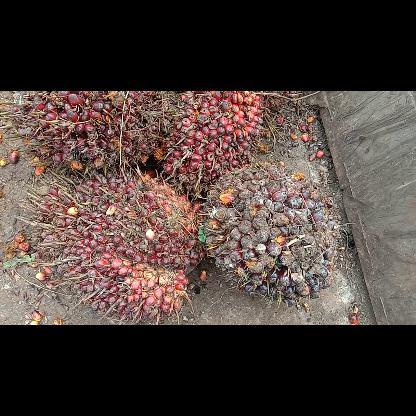Kurang masak: (200, 158, 346, 308)
TBS masak: (15, 164, 204, 324), (0, 90, 174, 180), (161, 91, 266, 201)
